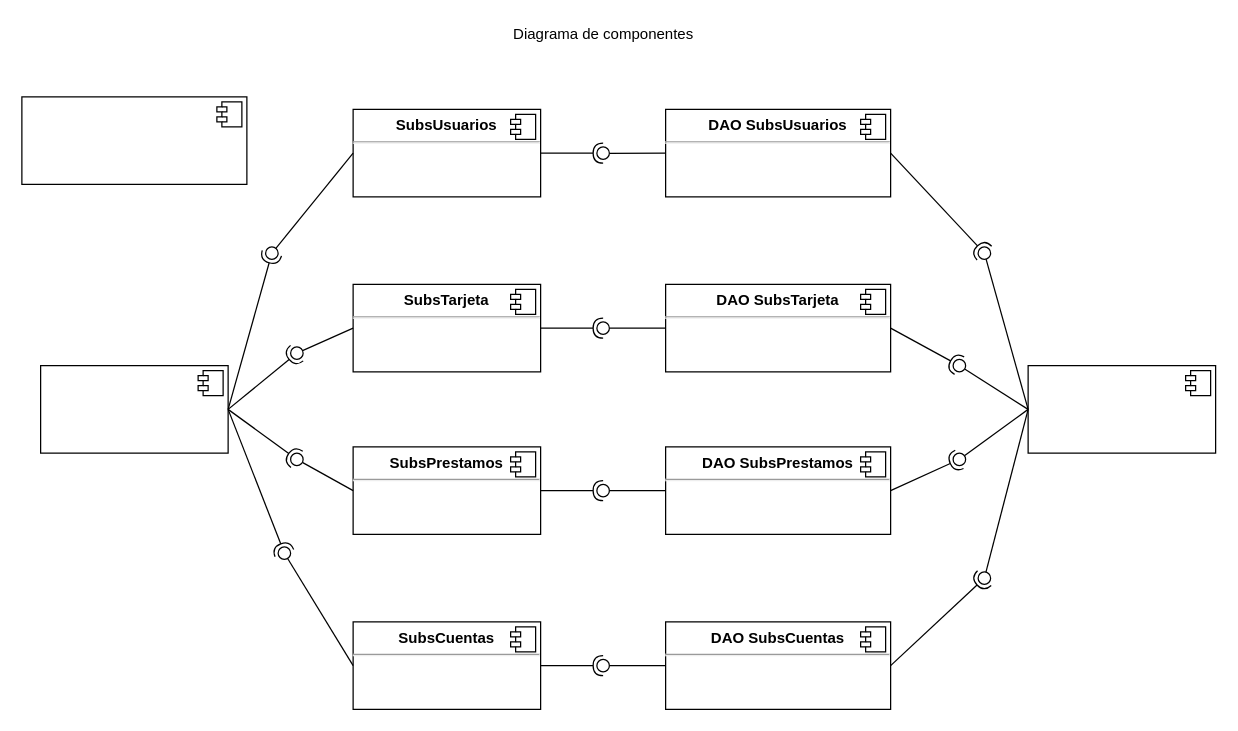
Some shapes in this 1238 by 731 pixel diagram are drawn without their labels. Here are the shapes that lost their labels. From the top down, the box of each, then its label:
(21, 96, 247, 184): Modelo del dominio
(39, 364, 228, 453): GUI
(1027, 364, 1216, 453): BBDD
